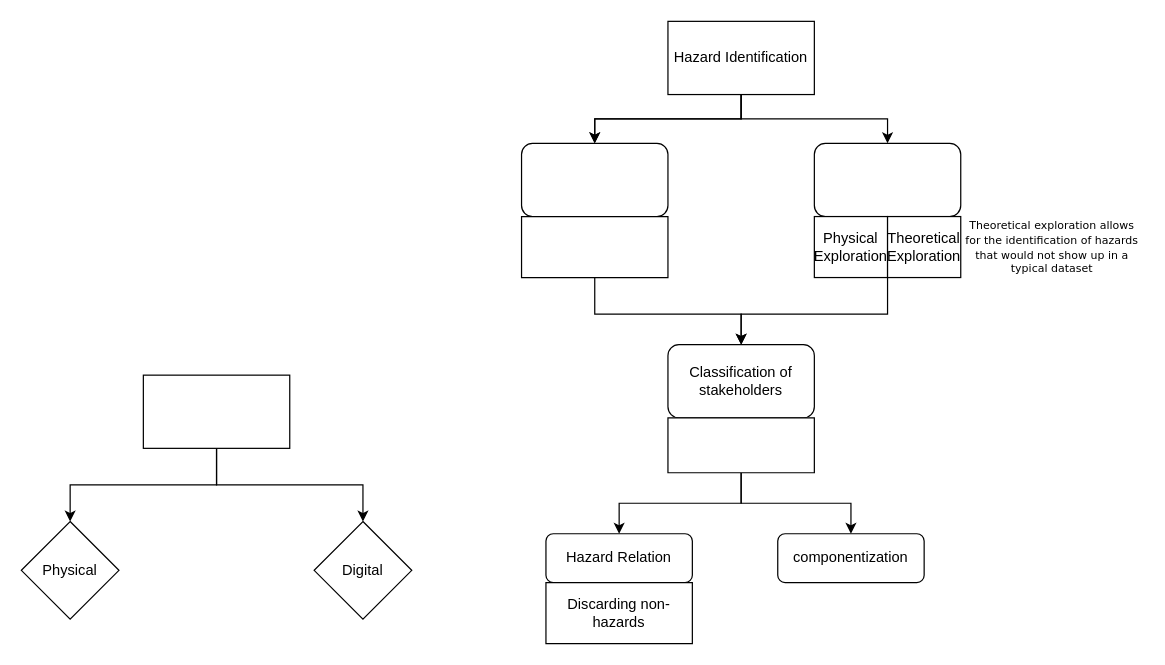
Some shapes in this 1165 by 665 pixel diagram are drawn without their labels. The shapes that lost their labels are listed below. From the top down, each one's centre as x and y in pixels, then its label:
At pixel 594 179: "Identification of mandatory operation".
At pixel 887 179: "Identification of environmental risk".
At pixel 594 246: "Initial comparison to ODM".
At pixel 216 411: "Separation into Physical and Digital".
At pixel 740 445: "Exploration of both the AS' operation and surroundings".
